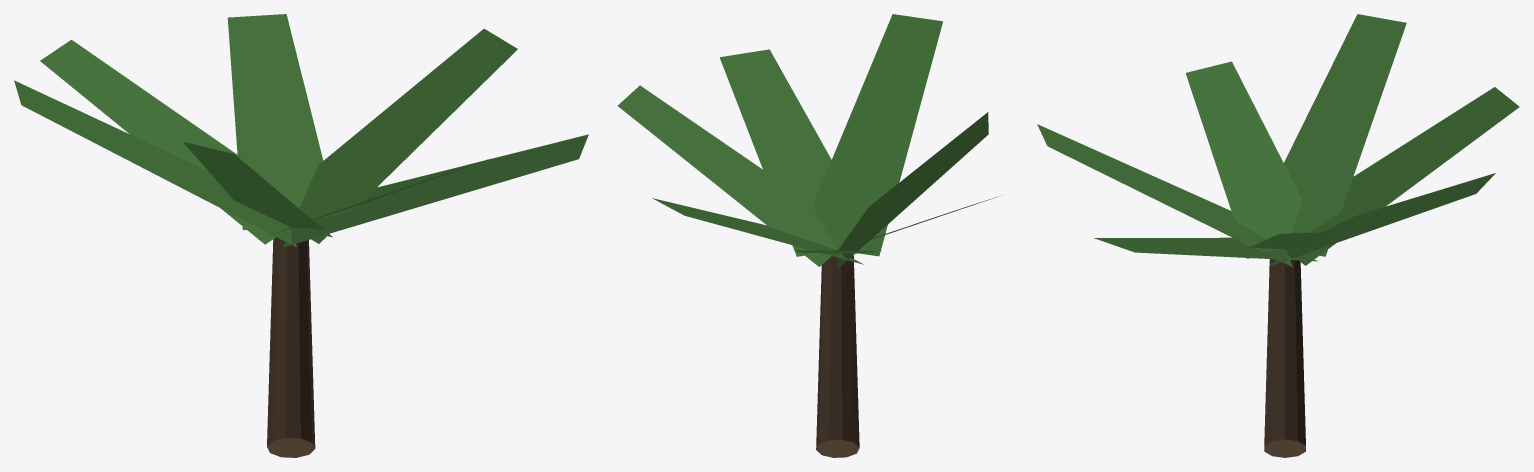
File: tree-banana.glb
3 views of the same model, side by side, from view 1: azimuth 30°, elevation 25°; view 2: azimuth 150°, elevation 25°; view 3: azimuth 270°, elevation 25° (orthographic). The views are drawn at different scales.
Parts seen in each view (by area): view 1: tree-banana; view 2: tree-banana; view 3: tree-banana.
Boxes of the visible parts, box(x1,y1,x2,y2) form: tree-banana: box(14, 14, 588, 457); tree-banana: box(617, 14, 998, 457); tree-banana: box(1037, 14, 1519, 457).
Bounding box in the file's own units: 3.87 × 3.02 × 3.96.
